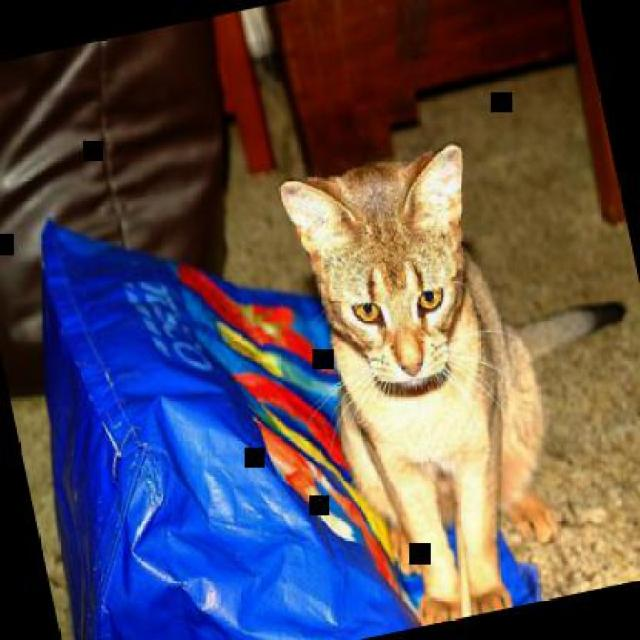cat: (274, 112, 638, 636)
